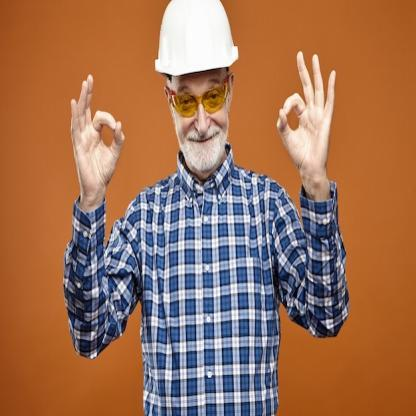ok: (272, 43, 340, 176), (66, 70, 128, 195)
